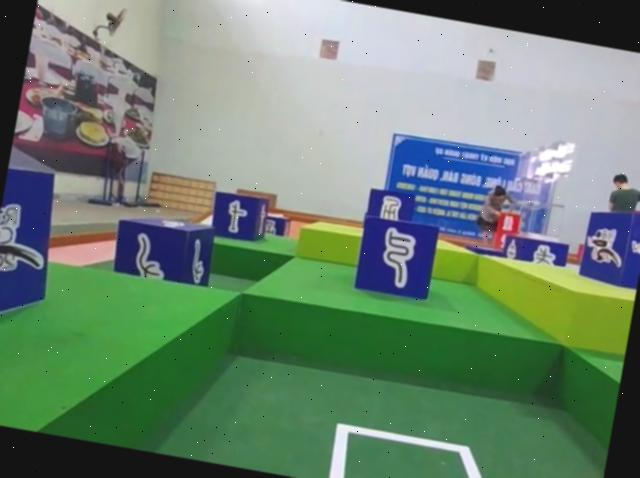R1 Blue: (0, 167, 64, 347), (576, 204, 640, 292)
R2 Fake Blue: (349, 216, 438, 306), (500, 233, 567, 269), (365, 189, 417, 228)
R2 Real Blue: (108, 209, 217, 289), (207, 189, 270, 245)
